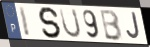9: (82, 9, 100, 40)
B: (100, 9, 124, 42)
I: (17, 5, 31, 37)
J: (125, 11, 142, 41)
S: (38, 6, 63, 40)
U: (58, 7, 82, 39)
